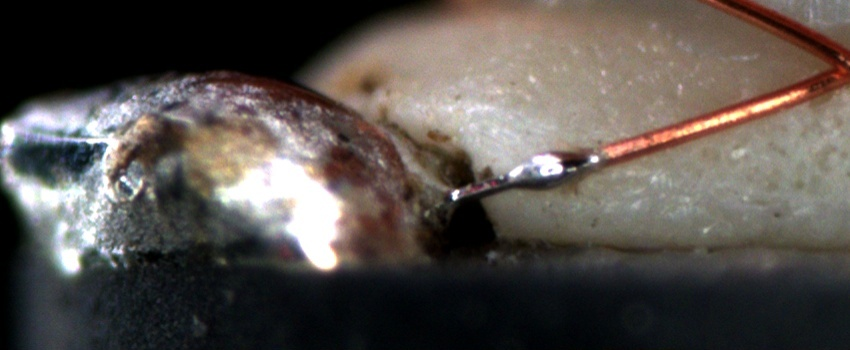CL: (800, 32, 849, 95)
TB: (503, 140, 594, 196)
TS: (453, 147, 604, 201)
TTCW: (445, 132, 649, 203)
